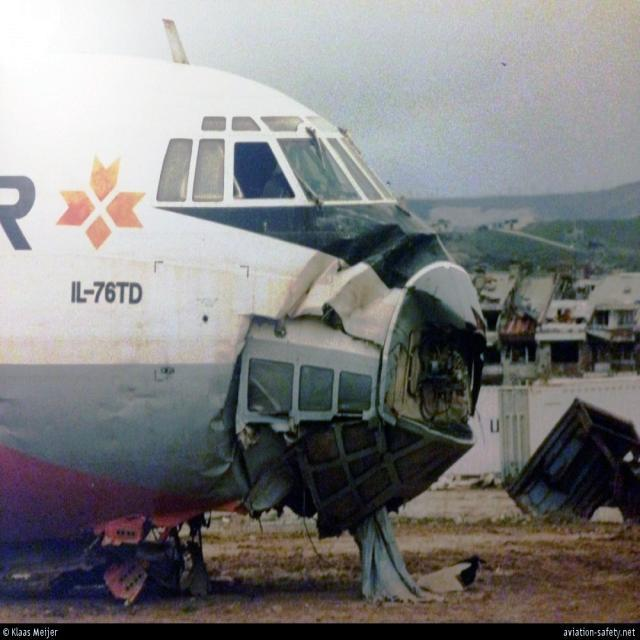dent: (203, 412, 235, 481)
